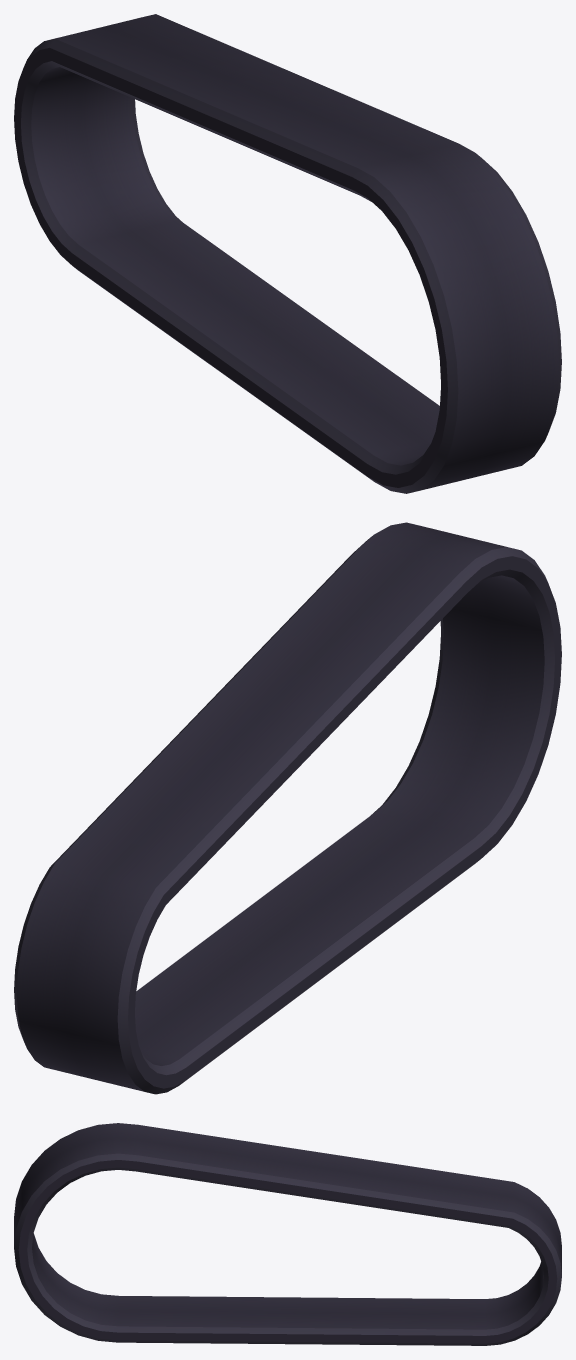
The model's file is Track.fbx.
3 views of the same model, one above another, from view 1: azimuth 30°, elevation 25°; view 2: azimuth 150°, elevation 25°; view 3: azimuth 270°, elevation 25° (orthographic). The views are drawn at different scales.
Visible parts, largest first — view 1: track; view 2: track; view 3: track.
Boxes of the visible parts, x1=… form: track: x1=14, y1=14, x2=561, y2=493; track: x1=14, y1=522, x2=561, y2=1094; track: x1=14, y1=1123, x2=561, y2=1345.
Size of the model in its own units: 86.82 by 226 by 583.
